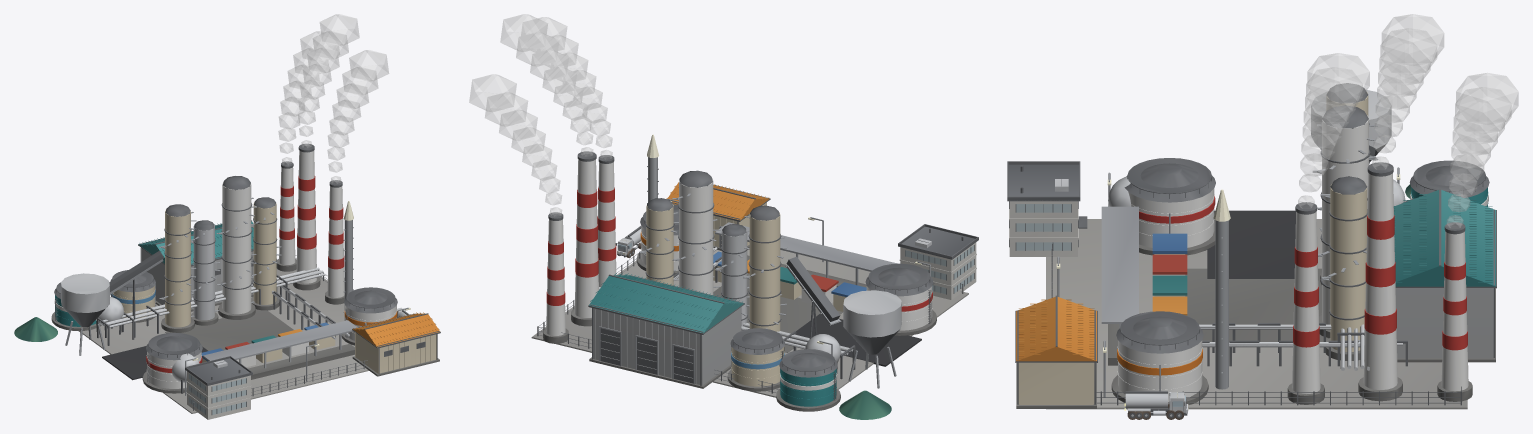
The model's file is Refinery_P3.fbx.
3 renders of one model, left to right at view 1: azimuth 30°, elevation 25°; view 2: azimuth 150°, elevation 25°; view 3: azimuth 270°, elevation 25°, orthographic. The views are drawn at different scales.
Visible parts, largest first — view 1: Refinery.Pad, Refinery.Col2, Refinery.Shed, Refinery.Col0, Refinery.Office, Refinery.Smoke0, Refinery.Smoke1, Refinery.Bay, Refinery.Smoke2, Refinery.Col3, Refinery.Stack0, Refinery.Col1 (+17 smaller); view 2: Refinery.Hall, Refinery.Pad, Refinery.Smoke2, Refinery.Smoke0, Refinery.Col2, Refinery.Col0, Refinery.Office, Refinery.Stack0, Refinery.Smoke1, Refinery.Tank1, Refinery.Intake, Refinery.Tank0 (+16 smaller); view 3: Refinery.Pad, Refinery.Hall, Refinery.Shed, Refinery.Stack0, Refinery.Tank3, Refinery.Office, Refinery.Tank0, Refinery.Col3, Refinery.Smoke0, Refinery.Smoke1, Refinery.Smoke2, Refinery.Stack1 (+14 smaller).
Boxes of the visible parts, bbox=[...] form: Refinery.Pad: bbox=[79, 268, 368, 413]; Refinery.Col2: bbox=[216, 176, 256, 319]; Refinery.Shed: bbox=[352, 312, 440, 376]; Refinery.Col0: bbox=[159, 204, 196, 332]; Refinery.Office: bbox=[185, 356, 252, 419]; Refinery.Smoke0: bbox=[298, 14, 359, 147]; Refinery.Smoke1: bbox=[327, 50, 388, 183]; Refinery.Bay: bbox=[203, 320, 366, 379]; Refinery.Smoke2: bbox=[278, 31, 339, 164]; Refinery.Col3: bbox=[251, 197, 281, 310]; Refinery.Stack0: bbox=[293, 143, 320, 290]; Refinery.Col1: bbox=[191, 220, 220, 325]; Refinery.Hall: bbox=[588, 273, 744, 388]; Refinery.Pad: bbox=[531, 249, 968, 397]; Refinery.Smoke2: bbox=[469, 74, 561, 216]; Refinery.Smoke0: bbox=[500, 14, 593, 156]; Refinery.Col2: bbox=[672, 170, 720, 294]; Refinery.Col0: bbox=[743, 205, 787, 351]; Refinery.Office: bbox=[898, 224, 978, 299]; Refinery.Stack0: bbox=[571, 151, 598, 326]; Refinery.Smoke1: bbox=[521, 17, 612, 159]; Refinery.Tank1: bbox=[776, 349, 840, 411]; Refinery.Intake: bbox=[843, 290, 901, 388]; Refinery.Tank0: bbox=[865, 263, 936, 335]; Refinery.Pad: bbox=[1046, 210, 1467, 409]; Refinery.Hall: bbox=[1393, 188, 1496, 362]; Refinery.Shed: bbox=[1015, 295, 1097, 408]; Refinery.Stack0: bbox=[1358, 162, 1402, 401]; Refinery.Tank3: bbox=[1111, 311, 1208, 405]; Refinery.Office: bbox=[1007, 161, 1087, 256]; Refinery.Tank0: bbox=[1124, 158, 1215, 255]; Refinery.Col3: bbox=[1321, 176, 1367, 360]; Refinery.Smoke0: bbox=[1372, 14, 1443, 169]; Refinery.Smoke1: bbox=[1298, 53, 1369, 208]; Refinery.Smoke2: bbox=[1447, 73, 1518, 228]; Refinery.Stack1: bbox=[1287, 202, 1324, 404].
Bounding box in the file's own units: 10255 × 7366 × 8250.
